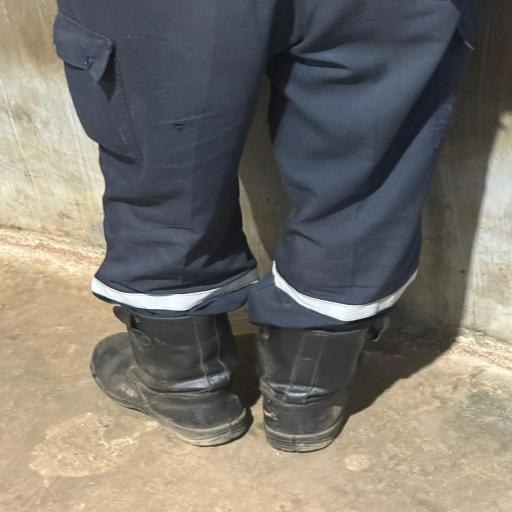safety_shoe: (79, 295, 249, 448), (248, 301, 374, 456)
